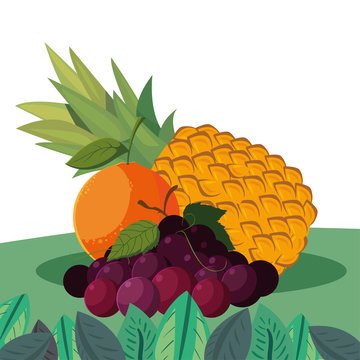Pineapple: (19, 38, 318, 273)
